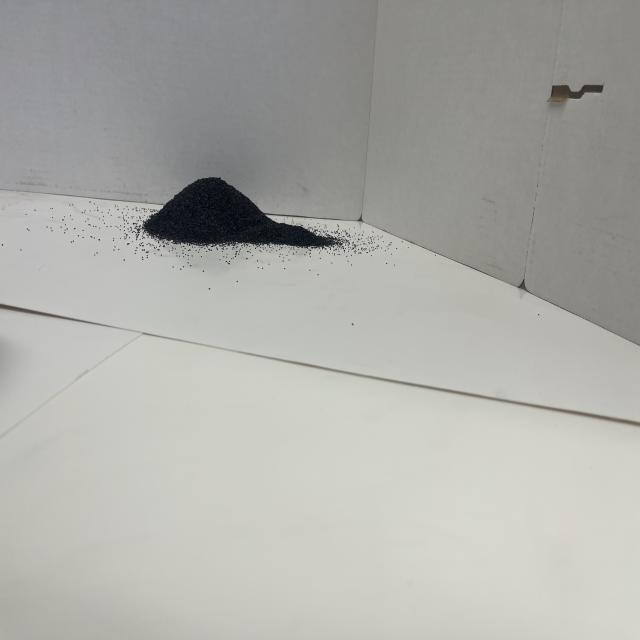Poppy Seeds: (144, 173, 330, 275)
